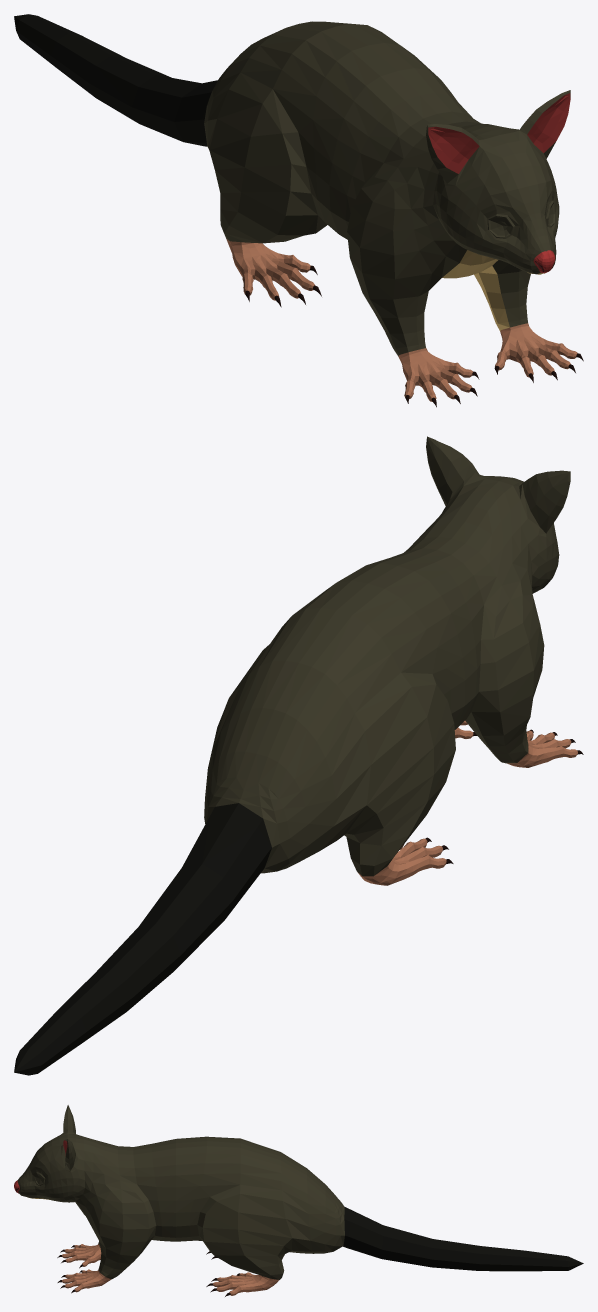
The model's file is possum_possum.obj.
3 renders of one model, top to bottom at view 1: azimuth 30°, elevation 25°; view 2: azimuth 150°, elevation 25°; view 3: azimuth 270°, elevation 25°, orthographic. The views are drawn at different scales.
Bounding box in the file's own units: 0.2126 × 0.2769 × 0.9654.
